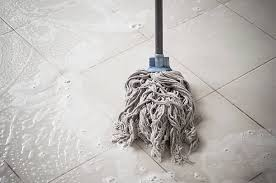Wet-floor: (3, 6, 110, 177), (20, 126, 259, 182), (203, 120, 276, 183)
